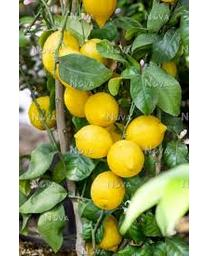lemon: (74, 124, 115, 159), (107, 141, 145, 178), (91, 170, 126, 210), (125, 116, 166, 148), (85, 91, 120, 128)
